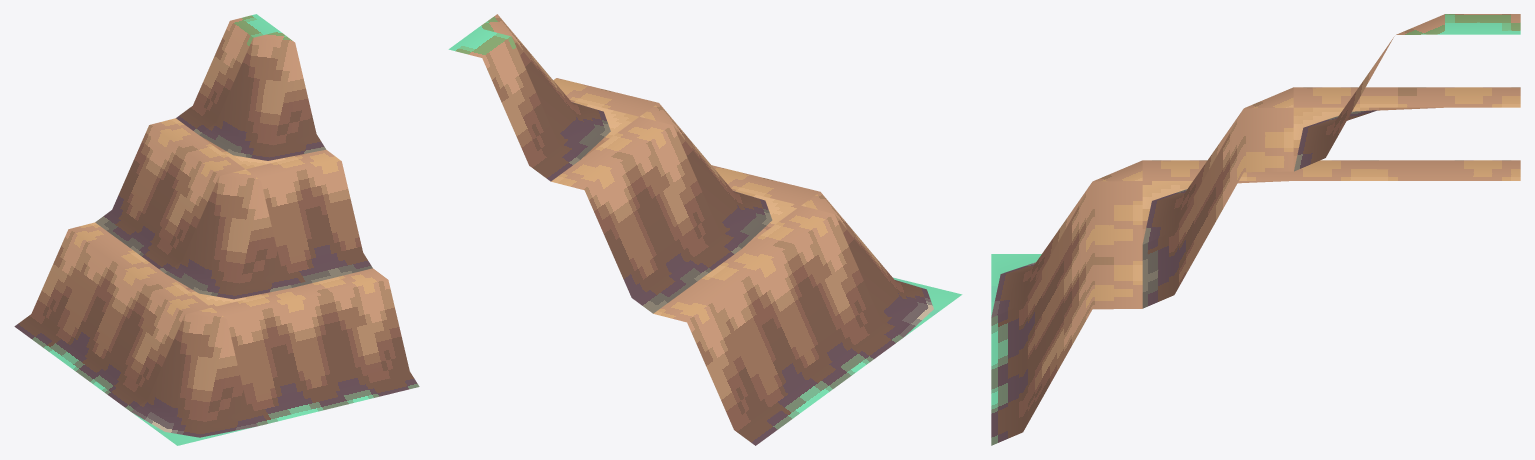
Rendered from terminaison-herbeuse-3-paliers.glb.
The picture shows the model from 3 angles, left to right: view 1: azimuth 30°, elevation 25°; view 2: azimuth 150°, elevation 25°; view 3: azimuth 270°, elevation 25°; orthographic projection. The views are drawn at different scales.
Bounding box in the file's own units: 3 × 3 × 3.5.
4 materials, 4 textured.
